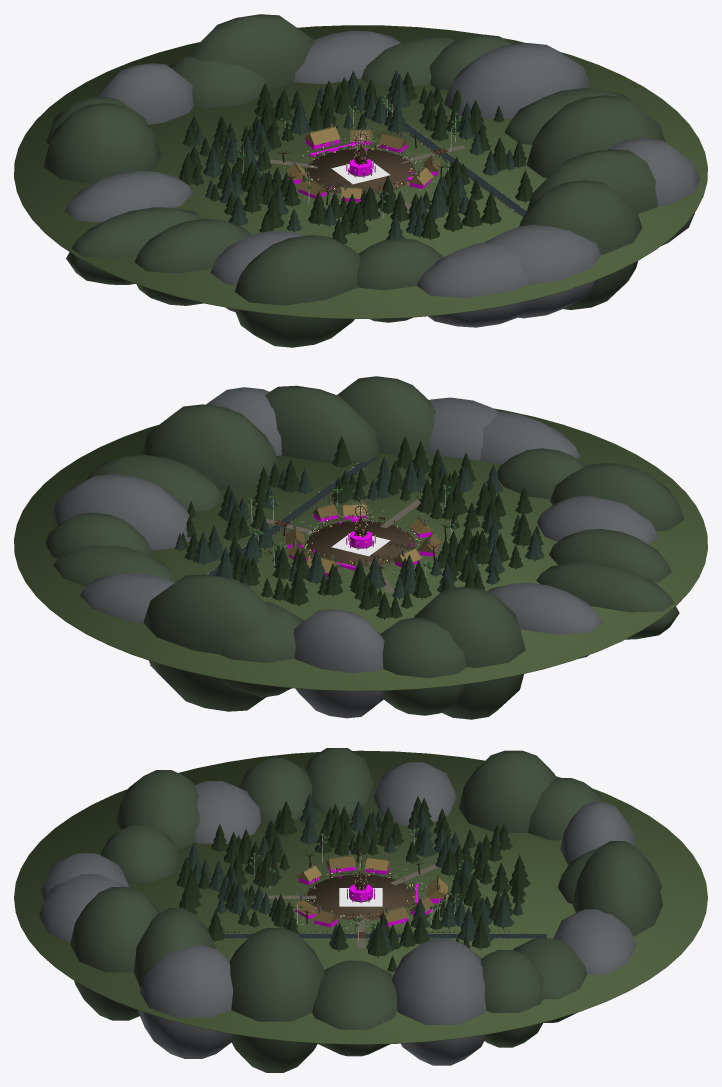
The model's file is treb_ciach.glb.
3 views of the same model, one above another, from view 1: azimuth 30°, elevation 25°; view 2: azimuth 150°, elevation 25°; view 3: azimuth 270°, elevation 25° (orthographic).
Parts seen in each view (by area): view 1: static_MAT_CLOTH_hill_moor, GROUND_grass, static_MAT_CLOTH_mountain_rock, static_MAT_METAL_pine_dark, static_MAT_METAL_pine_blue, GROUND_square, static_MAT_CLOTH_thatch_straw, static_MAT_CLOTH_thatch_old, GROUND_creek; view 2: static_MAT_CLOTH_hill_moor, GROUND_grass, static_MAT_CLOTH_mountain_rock, static_MAT_METAL_pine_dark, static_MAT_METAL_pine_blue, GROUND_square, static_MAT_CLOTH_thatch_old, static_MAT_CLOTH_thatch_straw, GROUND_creek; view 3: static_MAT_CLOTH_hill_moor, GROUND_grass, static_MAT_CLOTH_mountain_rock, static_MAT_METAL_pine_dark, static_MAT_METAL_pine_blue, GROUND_square, static_MAT_CLOTH_thatch_straw, static_MAT_CLOTH_thatch_old, GROUND_creek, DECAL_protectionSigil.
Boxes of the visible parts, x1,y1,x2,y2 form: static_MAT_CLOTH_hill_moor: (43,14,665,347); GROUND_grass: (14,25,707,319); static_MAT_CLOTH_mountain_rock: (64,30,699,327); static_MAT_METAL_pine_dark: (178,71,532,244); static_MAT_METAL_pine_blue: (195,70,515,239); GROUND_square: (306,149,415,193); static_MAT_CLOTH_thatch_straw: (286,127,433,198); static_MAT_CLOTH_thatch_old: (297,130,439,195); GROUND_creek: (347,84,526,217); static_MAT_CLOTH_hill_moor: (45,376,684,719); GROUND_grass: (14,408,707,691); static_MAT_CLOTH_mountain_rock: (51,387,658,718); static_MAT_METAL_pine_dark: (181,436,543,618); static_MAT_METAL_pine_blue: (174,456,544,604); GROUND_square: (306,521,415,566); static_MAT_CLOTH_thatch_old: (286,505,441,558); static_MAT_CLOTH_thatch_straw: (306,504,432,573); GROUND_creek: (207,456,378,575); static_MAT_CLOTH_hill_moor: (70,748,662,1072); GROUND_grass: (14,750,707,1044); static_MAT_CLOTH_mountain_rock: (39,762,636,1065); static_MAT_METAL_pine_dark: (177,796,530,971); static_MAT_METAL_pine_blue: (187,793,523,952); GROUND_square: (306,874,415,920); static_MAT_CLOTH_thatch_straw: (295,858,447,915); static_MAT_CLOTH_thatch_old: (304,856,434,923); GROUND_creek: (224,934,546,938); DECAL_protectionSigil: (339,888,382,906).
Size of the model in its own units: 280 by 58.39 by 280.
